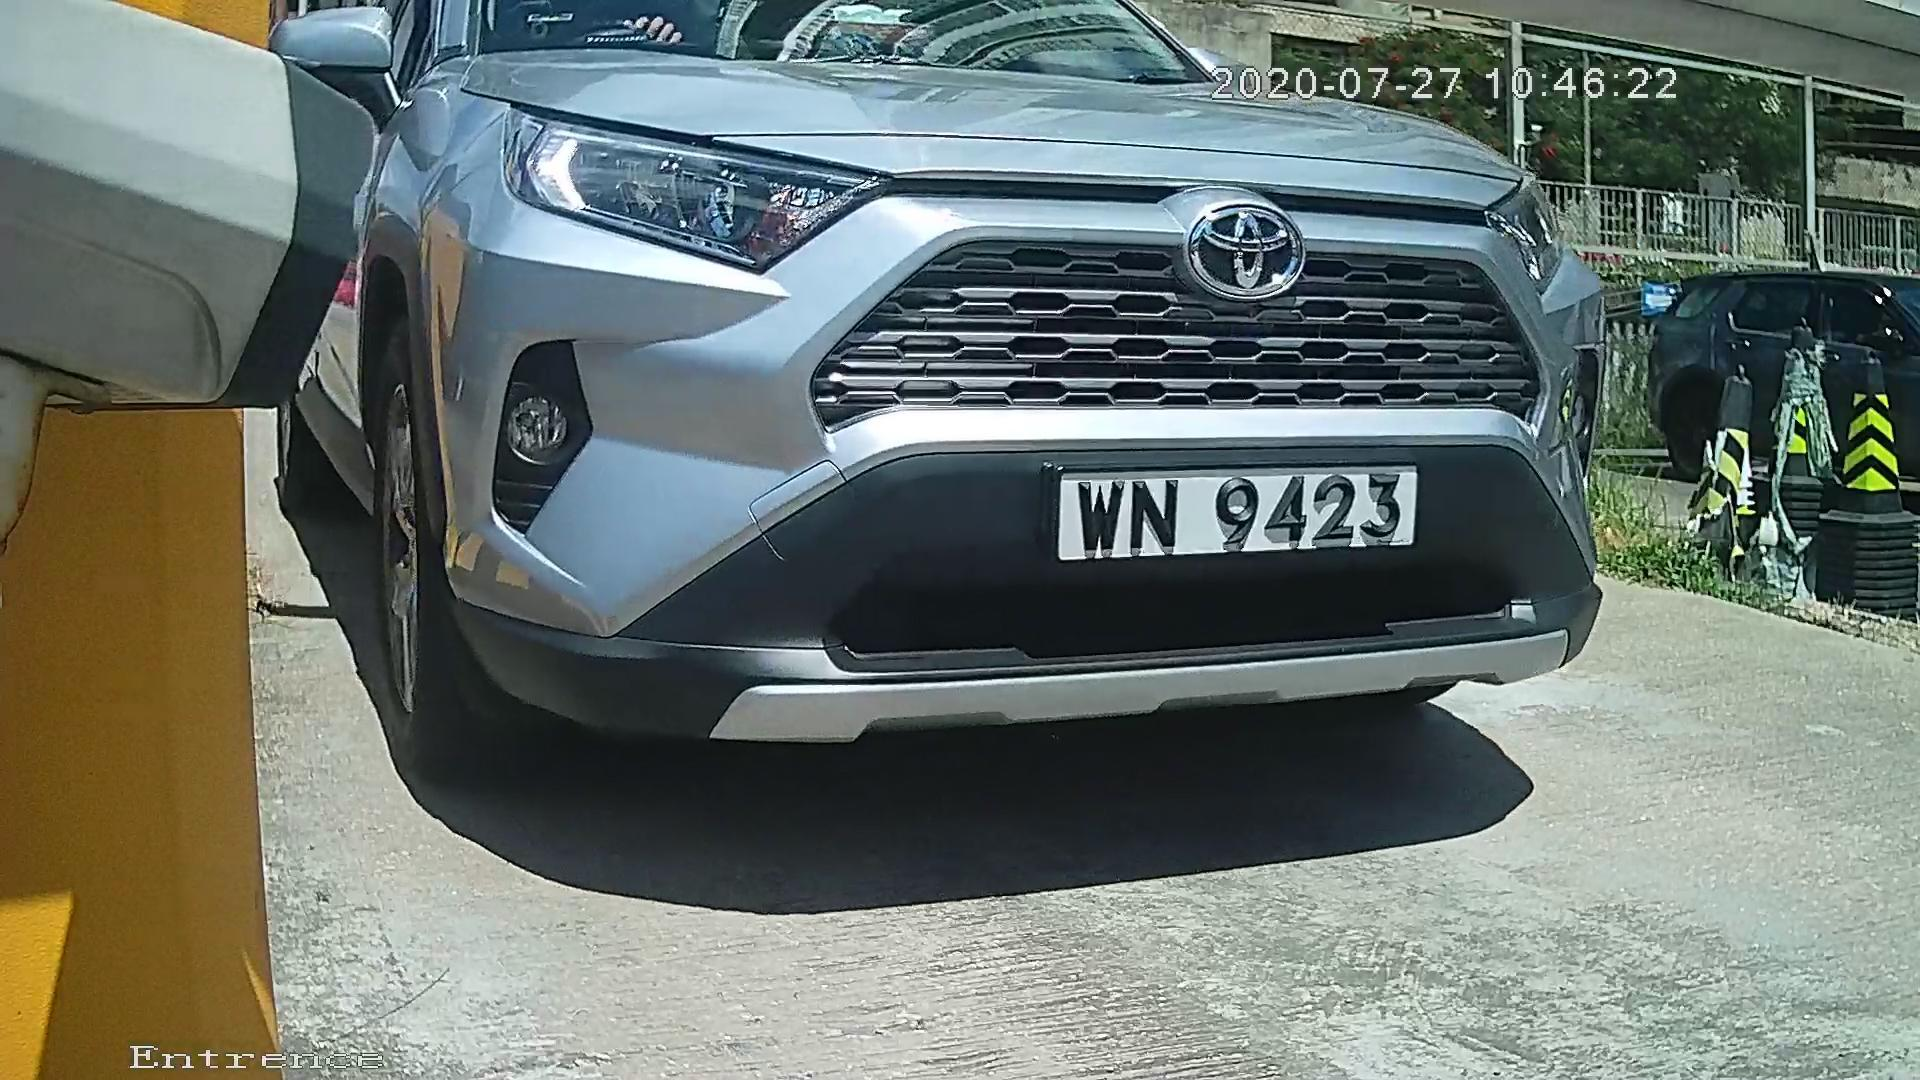Car: (95, 39, 1698, 844)
License Plate: (1046, 454, 1449, 579)
